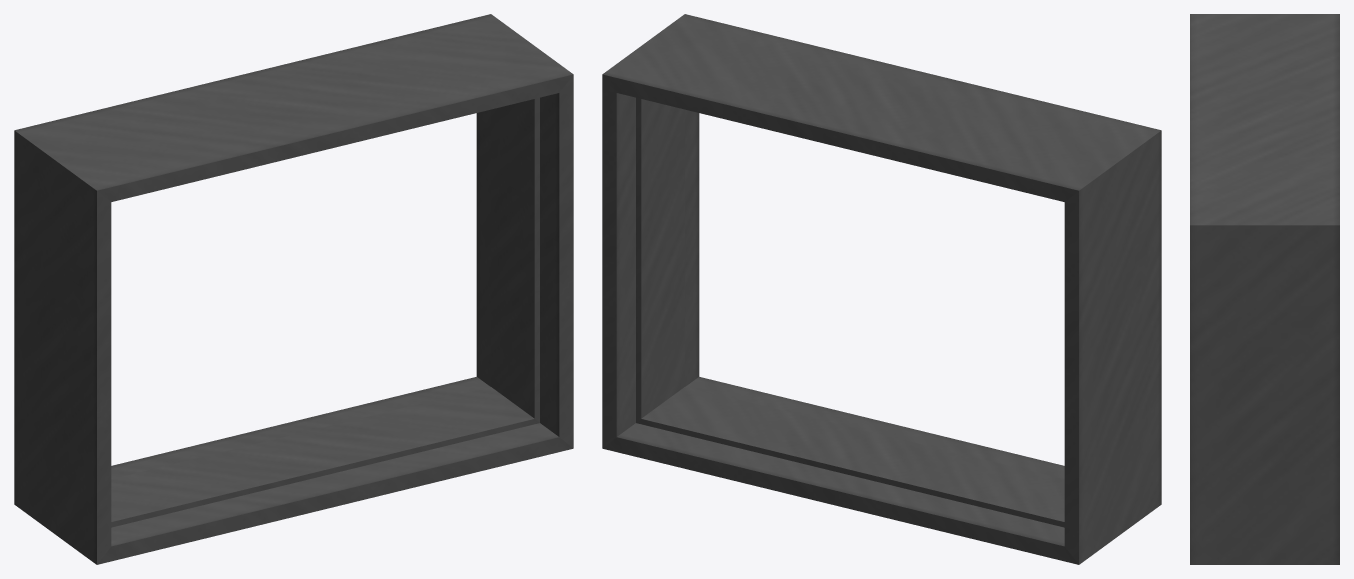
File: WinFrame1x0_75Horz.gltf
The picture shows the model from 3 angles, left to right: view 1: azimuth 30°, elevation 25°; view 2: azimuth 150°, elevation 25°; view 3: azimuth 270°, elevation 25°; orthographic projection. The views are drawn at different scales.
Visible parts, largest first — view 1: WinFrame1x0_75HorzShape; view 2: WinFrame1x0_75HorzShape; view 3: WinFrame1x0_75HorzShape.
Part boxes in pixels (left/top/right/bottom): WinFrame1x0_75HorzShape: left=14, top=14, right=573, bottom=564; WinFrame1x0_75HorzShape: left=602, top=14, right=1161, bottom=564; WinFrame1x0_75HorzShape: left=1190, top=14, right=1339, bottom=564.
Bounding box in the file's own units: 100 × 75 × 30.
1 material, 1 textured.
